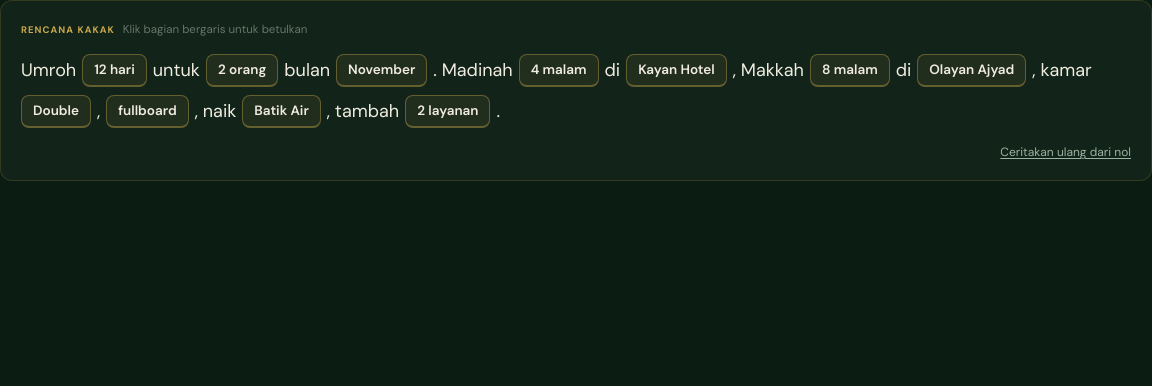
Test: SentenceCard › only allows one field editor open at a time
What coordinates should you click on to do the following:
click the button with aria-label "Bulan: November, klik untuk ubah"
I would click on:
 (382, 71)
Its box is [336,54,427,87].
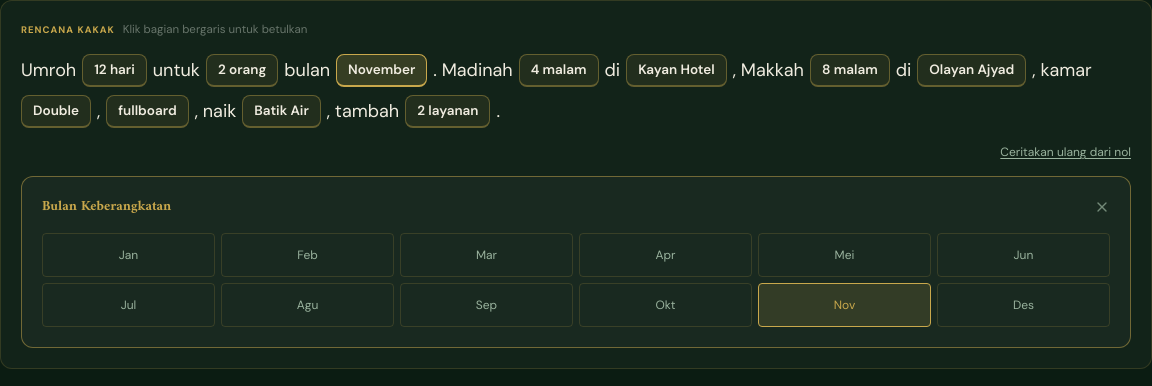
Expected: the heading "Bulan Keberangkatan" is shown, [42,197,171,217]
What coordinates should you click on to do the following:
click the button with aria-label "Tipe kamar: Double, klik untuk ubah"
I would click on:
 (56, 112)
Its box is [21,95,91,128].
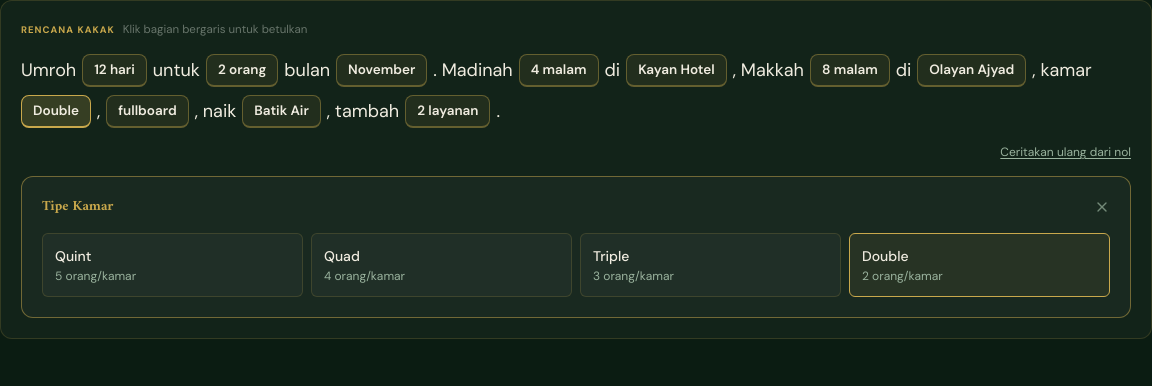
Expected: the heading "Bulan Keberangkatan" is gone
Expected: the heading "Tipe Kamar" is shown, [42,197,114,217]
